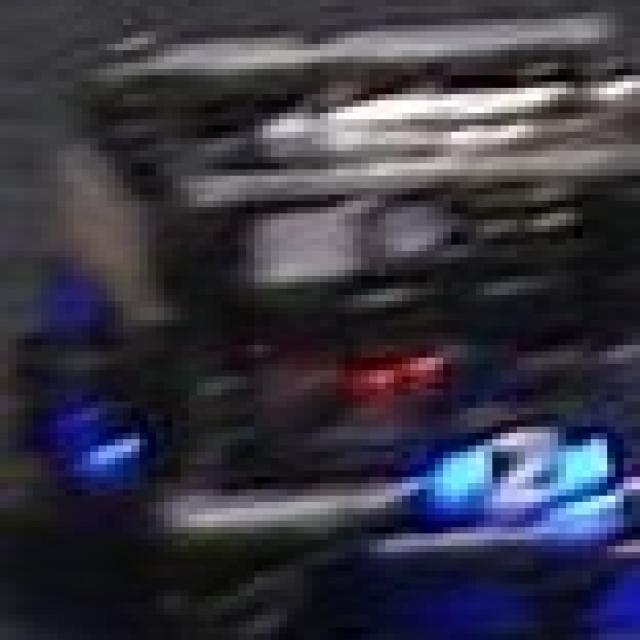B2: (418, 421, 599, 508)
